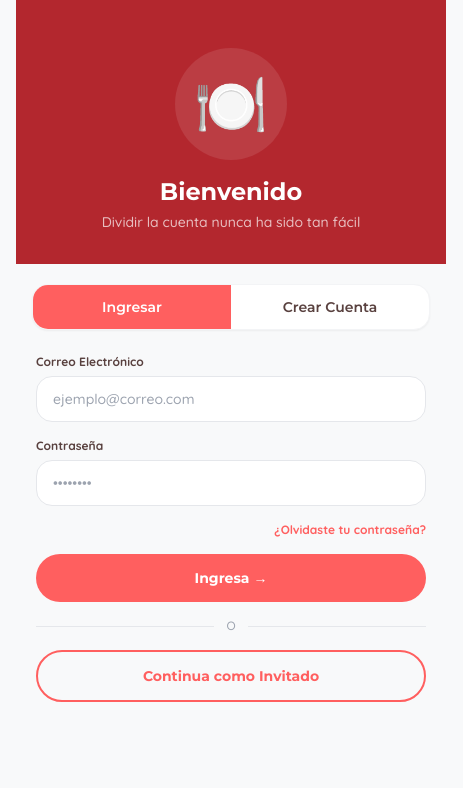
Scenario: LoginPage › switches to Crear Cuenta tab and shows name field
The width and height of the screenshot is (463, 788).
Step 1. Click the button "Crear Cuenta" → (330, 307), box [231, 285, 429, 329]
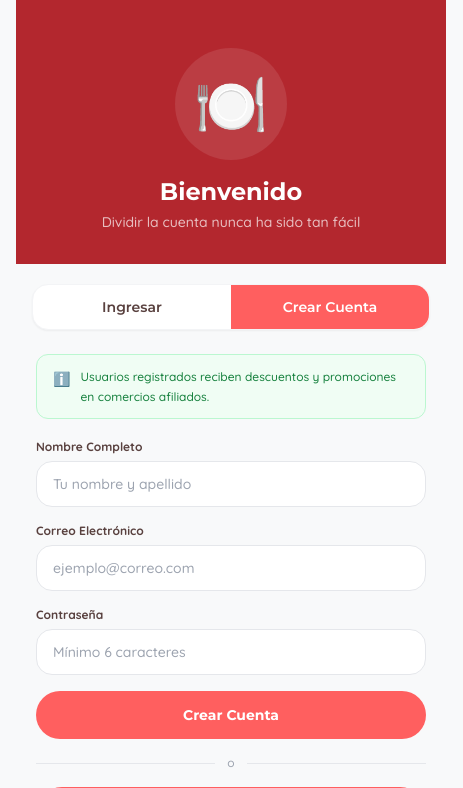
Now the field with placeholder "Tu nombre y apellido" is shown, box [36, 461, 426, 507]
